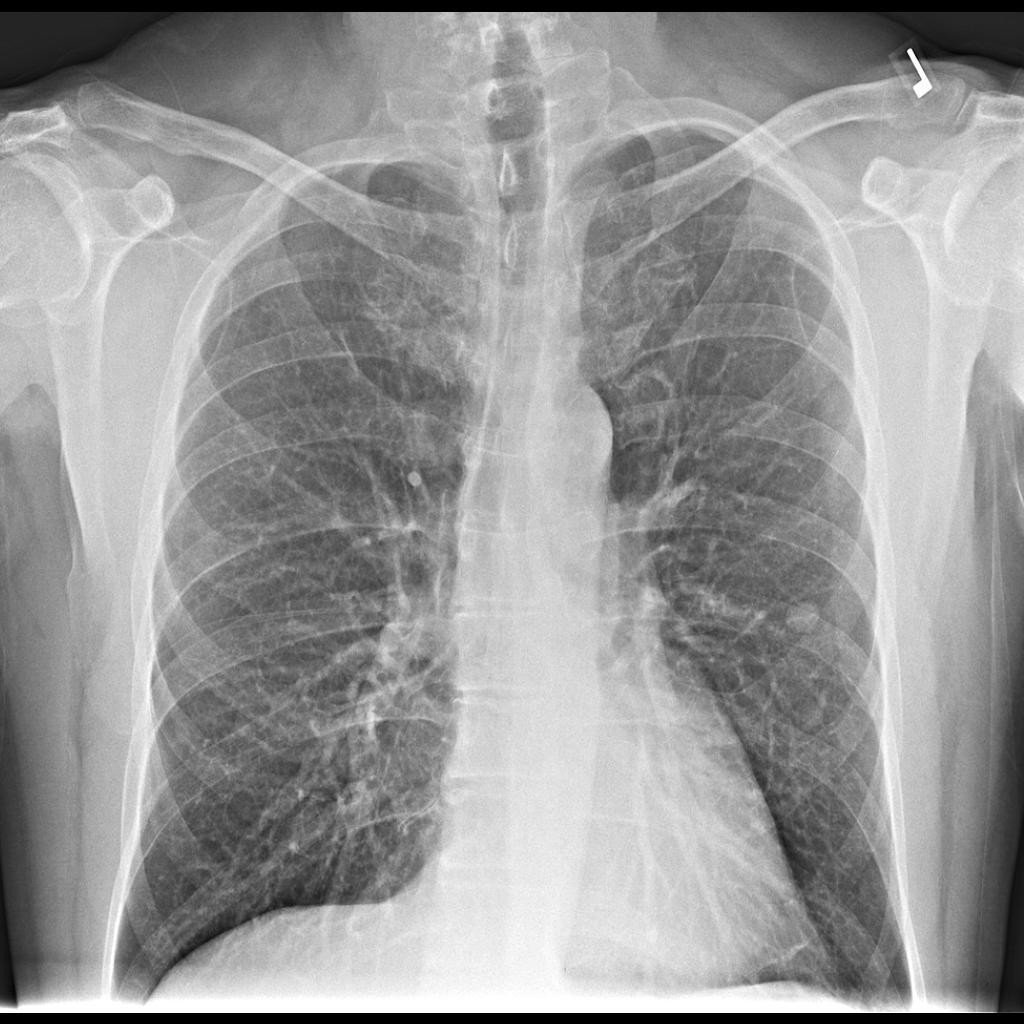Nodule: (772, 593, 829, 641)
